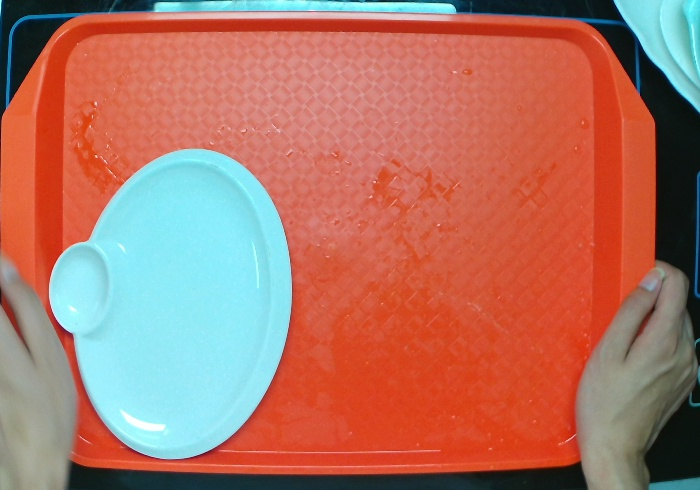RJxy-Zhan_Liao_Pan: (45, 136, 299, 465)
